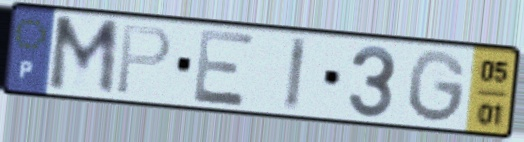3: (345, 43, 398, 120)
E: (191, 26, 258, 109)
G: (407, 47, 470, 126)
I: (281, 34, 311, 115)
M: (45, 13, 123, 99)
P: (113, 22, 175, 97)
